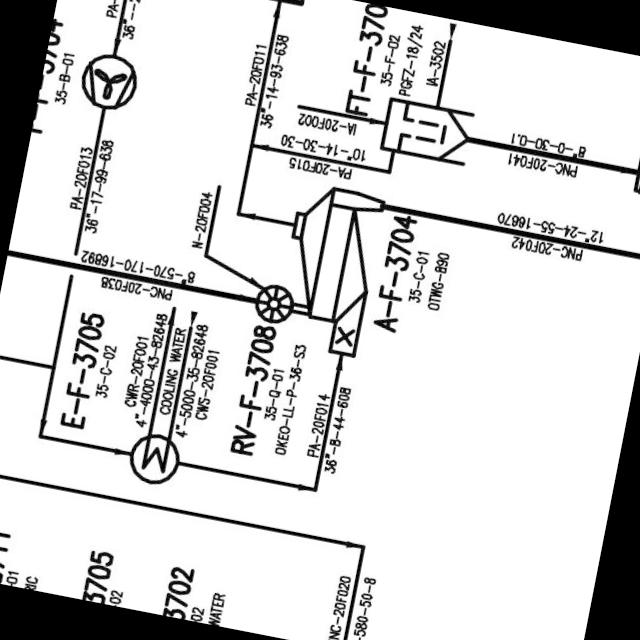A2: (264, 174, 394, 364)
F: (72, 48, 142, 115)
FT2: (370, 88, 482, 173)
HE: (124, 430, 184, 490)
RV1: (246, 280, 296, 330)
